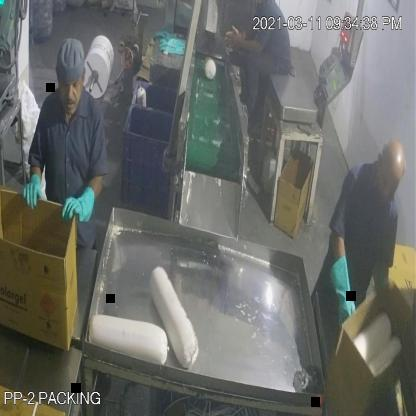glove: (333, 248, 358, 334)
no_glove: (223, 24, 274, 64)
